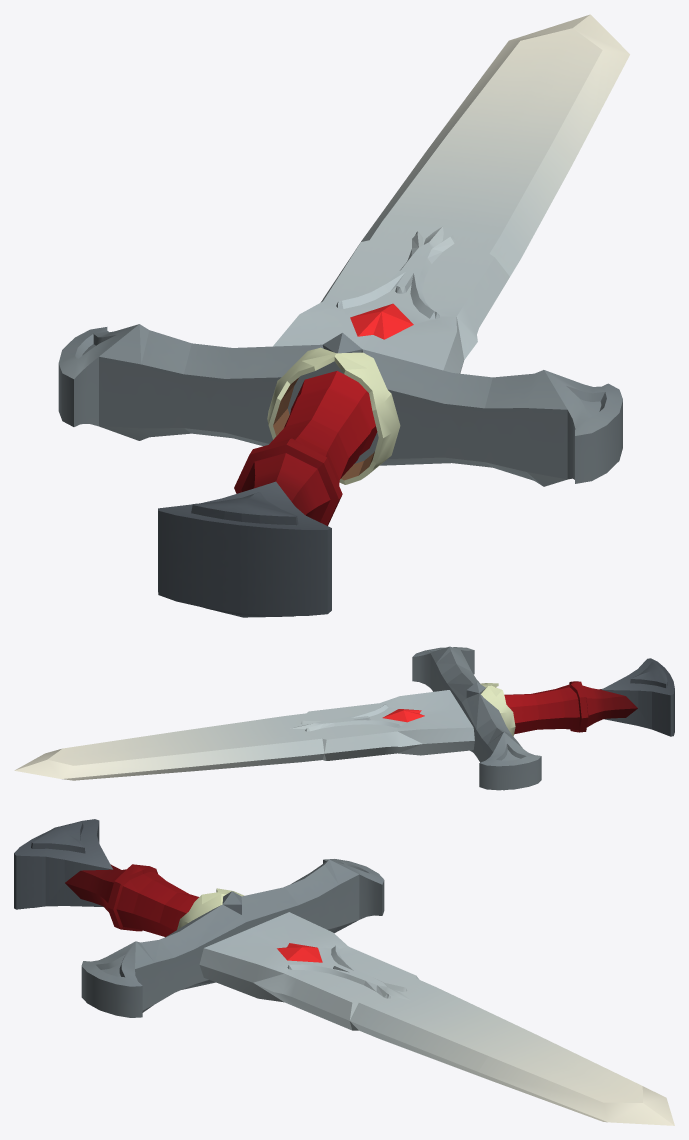
Rendered from Sword_2.fbx.
The picture shows the model from 3 angles, top to bottom: view 1: azimuth 30°, elevation 25°; view 2: azimuth 150°, elevation 25°; view 3: azimuth 270°, elevation 25°; orthographic projection. The views are drawn at different scales.
Visible parts, largest first — view 1: Sword_2; view 2: Sword_2; view 3: Sword_2.
Boxes of the visible parts, bbox=[...] form: Sword_2: bbox=[58, 14, 629, 617]; Sword_2: bbox=[14, 646, 674, 790]; Sword_2: bbox=[14, 819, 674, 1125].
Size of the model in its own units: 2 by 0.319 by 2.
Materials: 1 (1 with a texture image).
